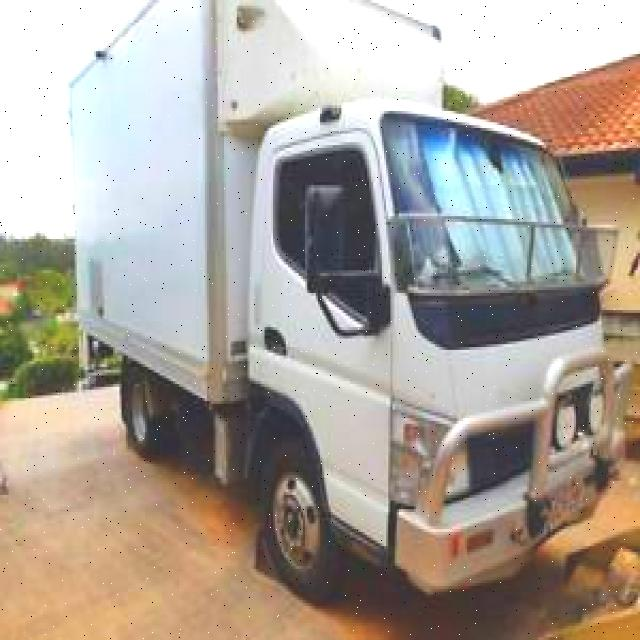truck: (72, 0, 634, 589)
